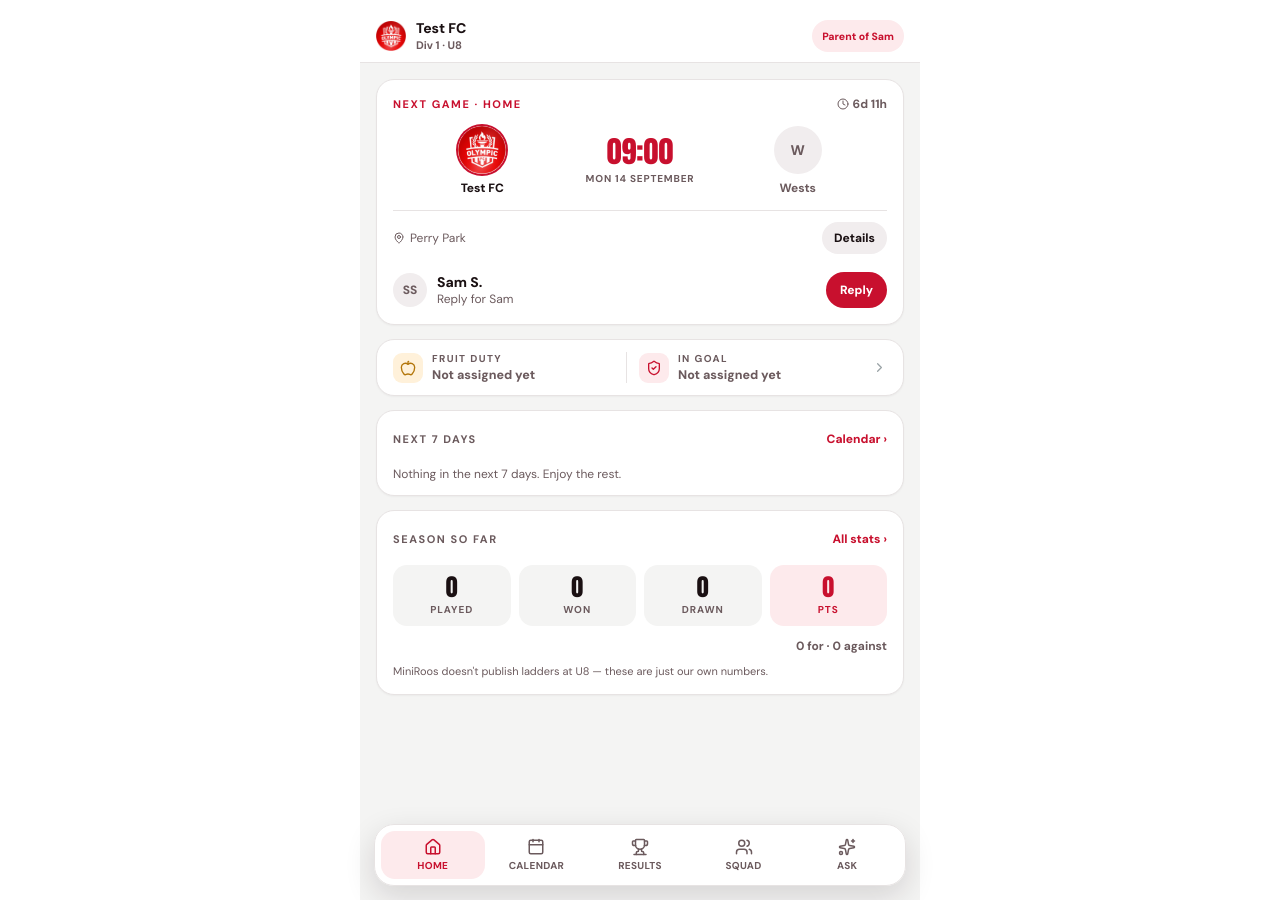
Test: App — account-mode roles (/api/me) › a parent gets the parent chip and a sheet with no coach mode, no settings and no legacy sign-in
Expected: the text "Div 1 · U8" is shown, [416, 38, 462, 52]
Step 1. Click the button with aria-label "Viewing as" → (858, 36), box [812, 20, 904, 52]
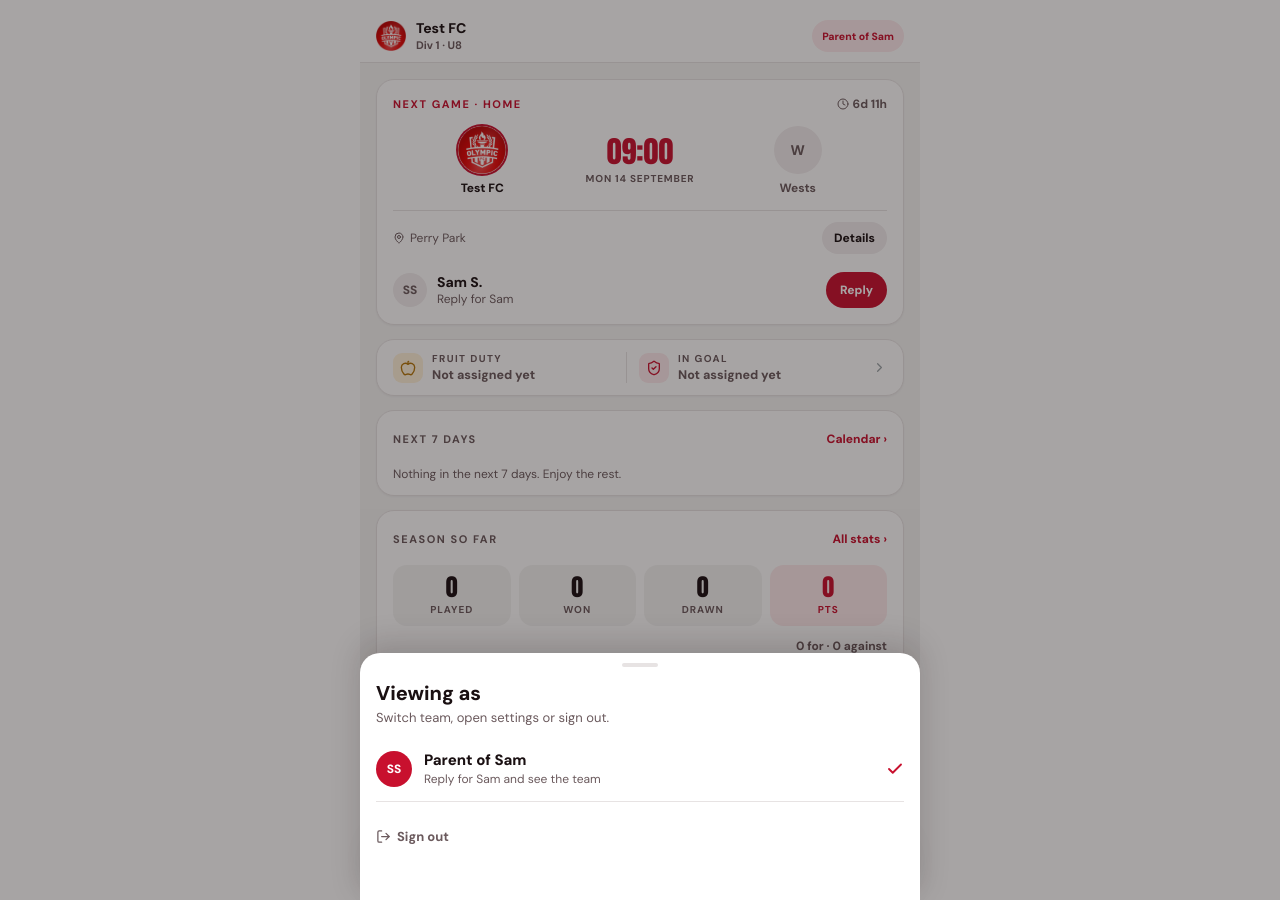
Expected: the text "Switch team, open settings or sign out." is shown, [376, 709, 609, 726]
Expected: the text with class "disc" reads "SS", [387, 760, 401, 776]
Expected: the text "Reply for Sam and see the team" is shown, [424, 771, 601, 787]
